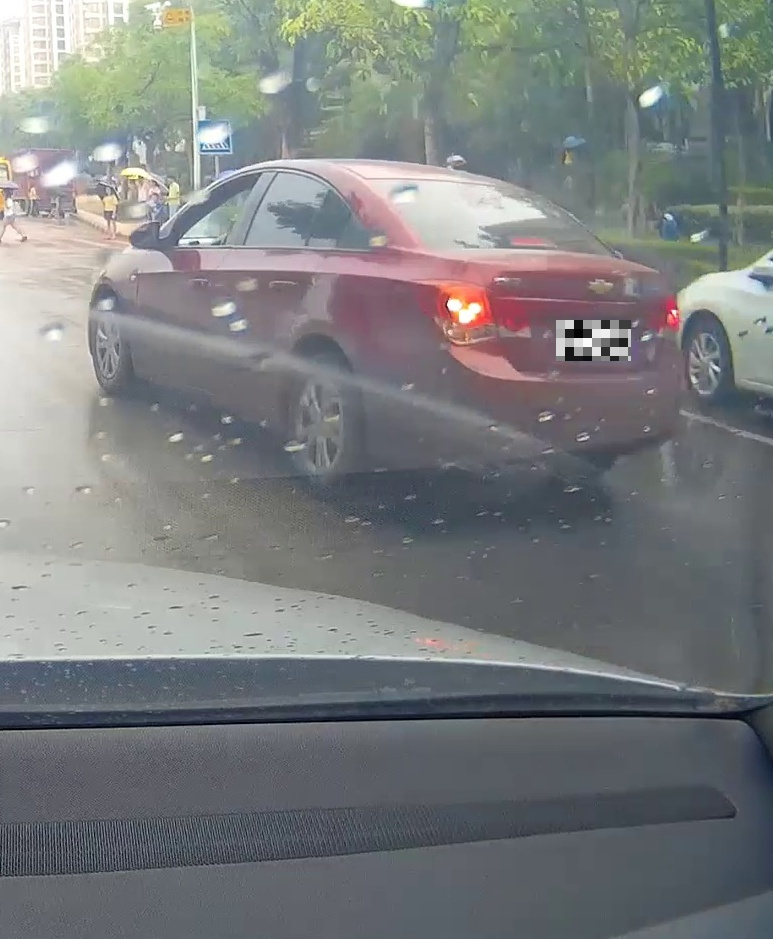L_light: (412, 276, 533, 347)
R_light: (650, 295, 681, 336)
T_light: (506, 234, 554, 248)
day-left: (355, 158, 687, 490)
plate_1: (556, 320, 631, 361)
